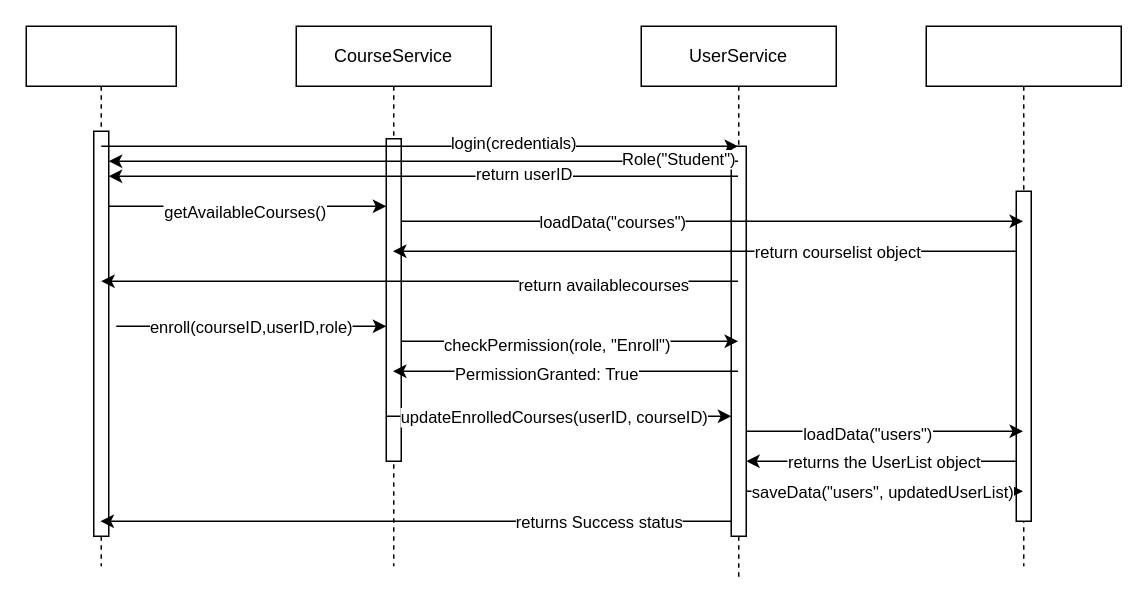
Some shapes in this 1148 by 608 pixel diagram are drawn without their labels. Each missing label, with the box of its shape:
JsonDatabaseManager: (925, 25, 1121, 566)
User: (25, 25, 176, 566)
